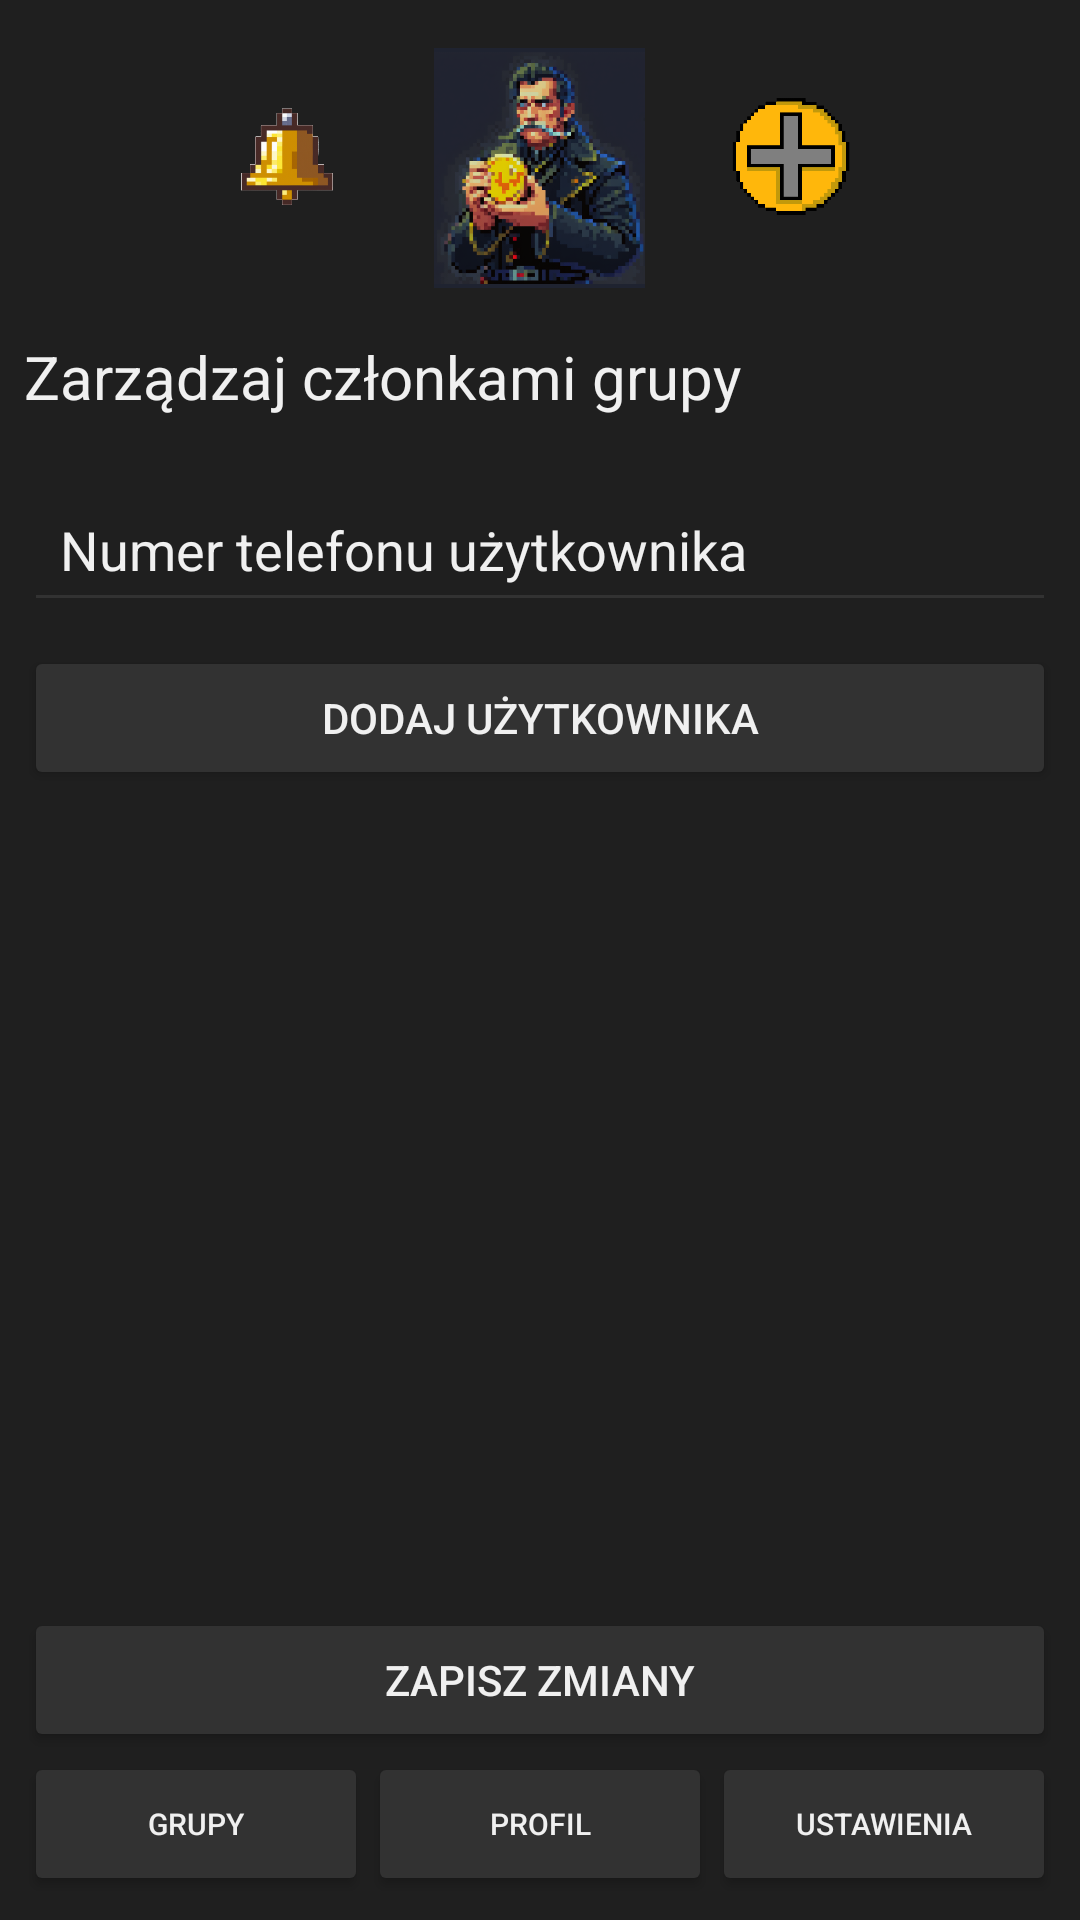

Icon bounding boxes for this 1080x1920 phone screenshot, format [x1,y1,x2,y2]:
Dodawanie Długów: [733,98,849,215]
Notifications Icon: [241,108,333,205]
